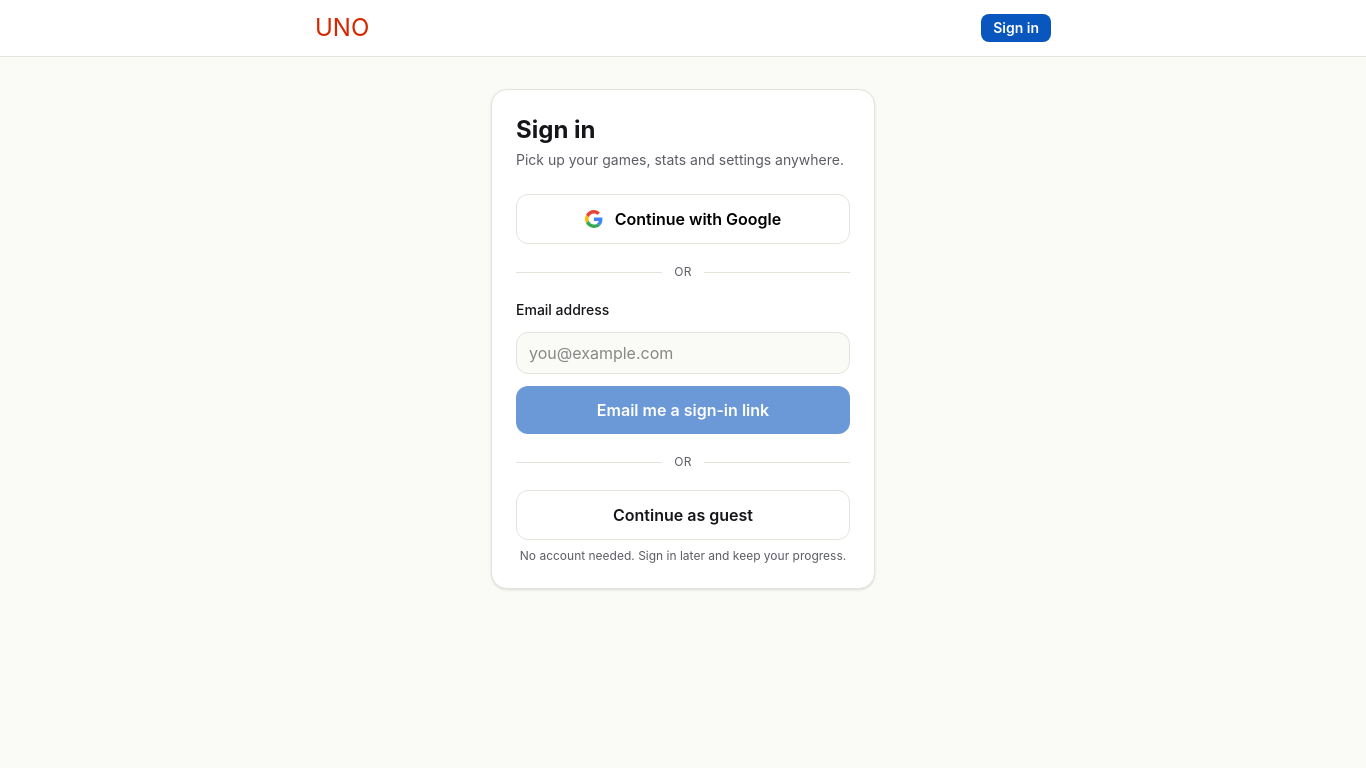
Test: guest accounts › shows an error if the guest session cannot be started
Click the button "Continue as guest". click: (683, 515)
box: left=516, top=490, right=850, bottom=540
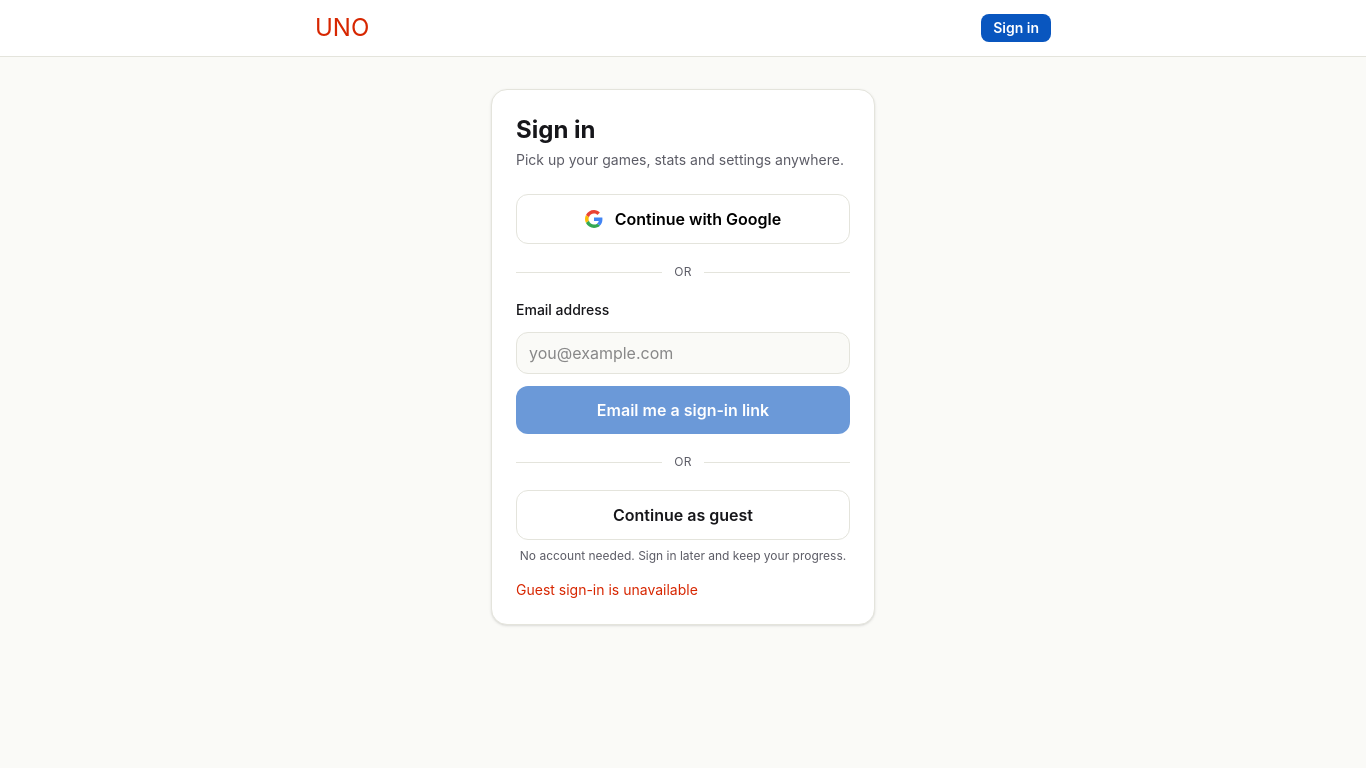
Check: the message reads "Guest sign-in is unavailable", box left=516, top=581, right=698, bottom=598
